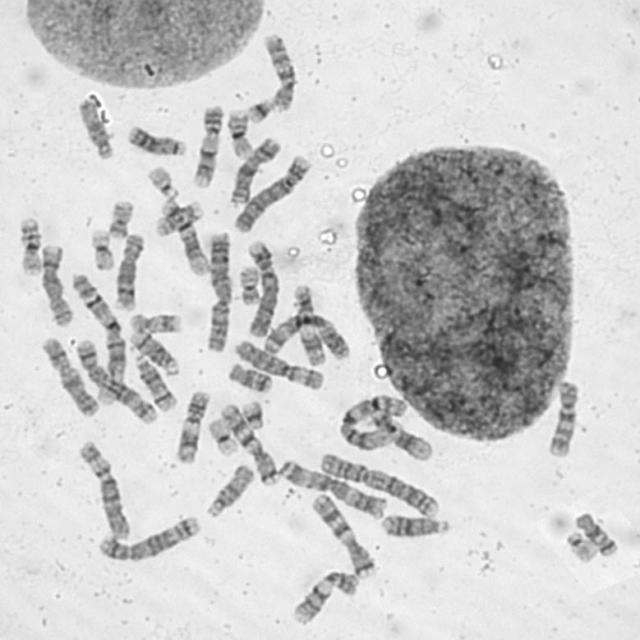A1: (68, 270, 127, 404), (336, 390, 408, 452)
A2: (316, 448, 441, 518), (202, 225, 233, 354)
A3: (278, 456, 388, 520), (259, 310, 352, 362)
B4: (230, 151, 313, 235), (243, 237, 280, 338)
B5: (72, 336, 158, 424), (95, 512, 203, 564)
C10: (260, 30, 298, 113), (544, 376, 582, 459)
C11: (291, 280, 328, 368), (172, 388, 212, 465)
C12: (158, 196, 210, 276), (363, 408, 434, 462)
C6: (76, 436, 132, 540), (232, 336, 324, 391)
C7: (308, 490, 377, 578), (218, 399, 280, 488)
C8: (38, 241, 74, 329), (111, 230, 148, 314)
C9: (288, 568, 363, 626), (190, 102, 226, 189)
D13: (126, 122, 188, 158), (379, 512, 451, 539)
D14: (132, 351, 178, 413), (127, 328, 181, 377)
D15: (203, 462, 255, 520), (75, 94, 116, 161)
E16: (16, 213, 44, 278), (224, 105, 254, 158)
E17: (152, 197, 206, 242), (127, 310, 185, 334)
E18: (572, 508, 619, 558), (225, 360, 275, 394)
F19: (200, 411, 240, 458), (86, 226, 116, 266)
F20: (102, 198, 136, 239), (236, 260, 264, 306)
G21: (242, 95, 276, 124), (240, 396, 266, 431)
G22: (144, 162, 180, 200), (563, 529, 600, 563)
X: (39, 334, 101, 418), (226, 133, 282, 208)
